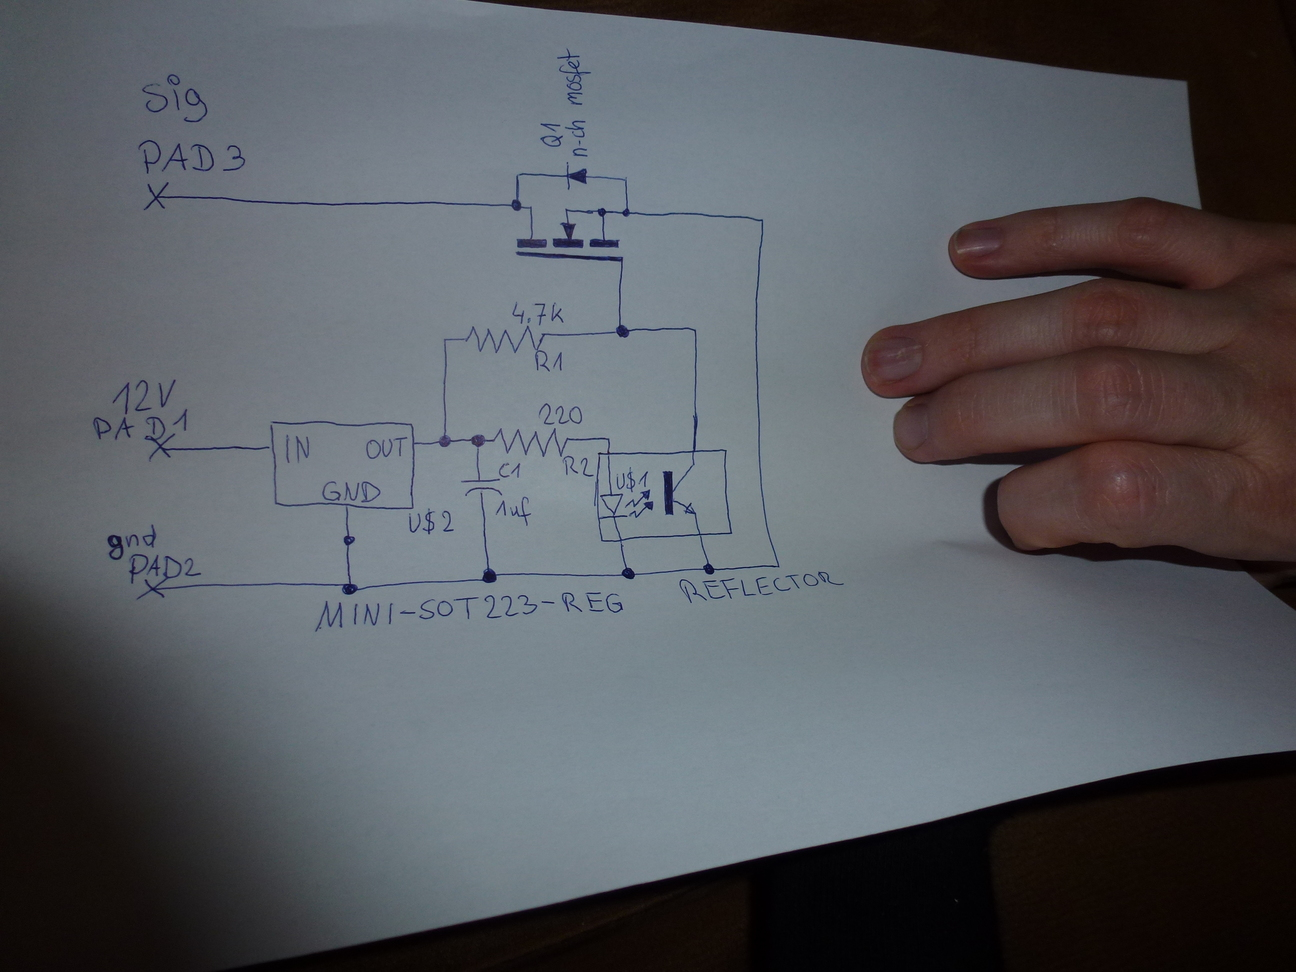capacitor.unpolarized: (458, 476, 502, 498)
diode: (560, 163, 592, 191)
integrated_circuit: (593, 447, 734, 544)
junction: (479, 566, 501, 586), (340, 577, 361, 597), (468, 430, 489, 450), (436, 432, 455, 450), (619, 563, 637, 581), (613, 323, 631, 340), (701, 560, 716, 576), (755, 214, 769, 227), (510, 199, 522, 213), (688, 324, 700, 335), (770, 557, 784, 568), (440, 334, 450, 345), (621, 207, 632, 218), (620, 174, 630, 183), (602, 435, 612, 443), (513, 171, 522, 179)
optocoupler: (596, 461, 700, 521)
resistor: (461, 323, 550, 360), (486, 424, 572, 461)
terminal: (141, 432, 179, 461), (140, 180, 171, 213), (133, 577, 169, 604)
text: (311, 590, 626, 635), (133, 124, 245, 179), (682, 570, 837, 604), (137, 76, 215, 140), (90, 405, 191, 443), (548, 47, 591, 126), (109, 376, 179, 417), (536, 111, 588, 152), (129, 552, 199, 582), (104, 524, 160, 556), (321, 477, 383, 504), (509, 299, 566, 326), (525, 340, 566, 373), (534, 400, 585, 426), (410, 507, 455, 535), (363, 435, 407, 459), (494, 495, 531, 524), (282, 432, 311, 464), (613, 469, 646, 493), (562, 454, 591, 478), (496, 459, 524, 483)
transistor: (514, 201, 628, 264)
voltage.dc_regulator: (266, 417, 418, 513)
